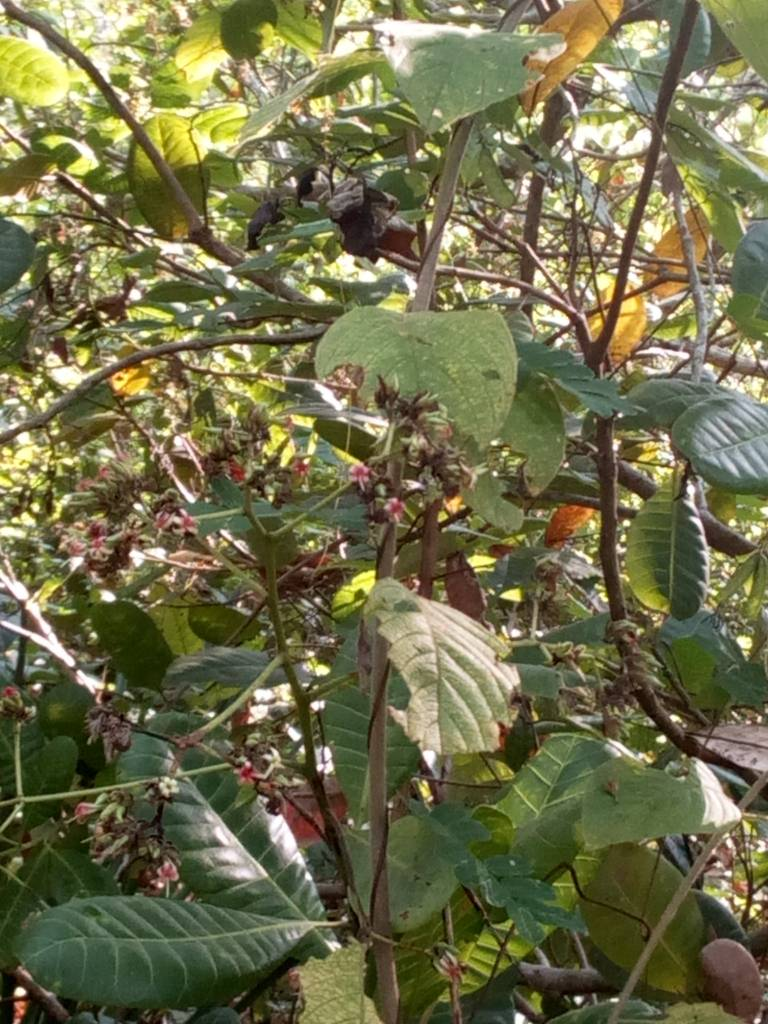Dessèchement des bourgeons: (372, 374, 464, 466), (327, 166, 410, 250)
